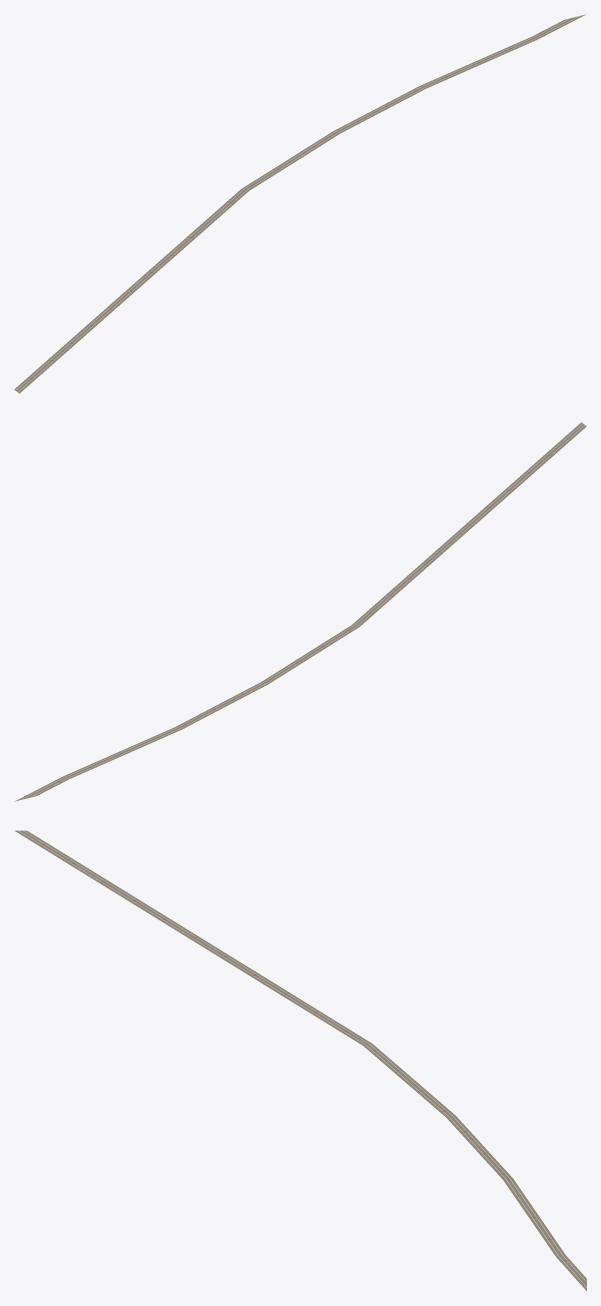
3 views of the same model, one above another, from view 1: azimuth 30°, elevation 25°; view 2: azimuth 210°, elevation 25°; view 3: azimuth 270°, elevation 25° (orthographic). The views are drawn at different scales.
Visible parts, largest first — view 1: rail; view 2: rail; view 3: rail.
Part boxes in pixels (left/top/right/bottom): rail: left=14, top=14, right=586, bottom=393; rail: left=14, top=422, right=586, bottom=801; rail: left=14, top=830, right=586, bottom=1290.
Size of the model in its own units: 367 by 0.04 by 193.
